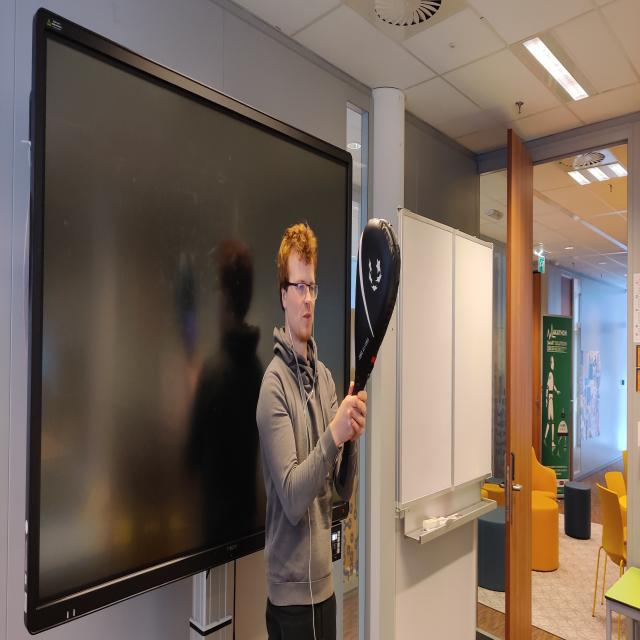paddle: (352, 216, 401, 396)
